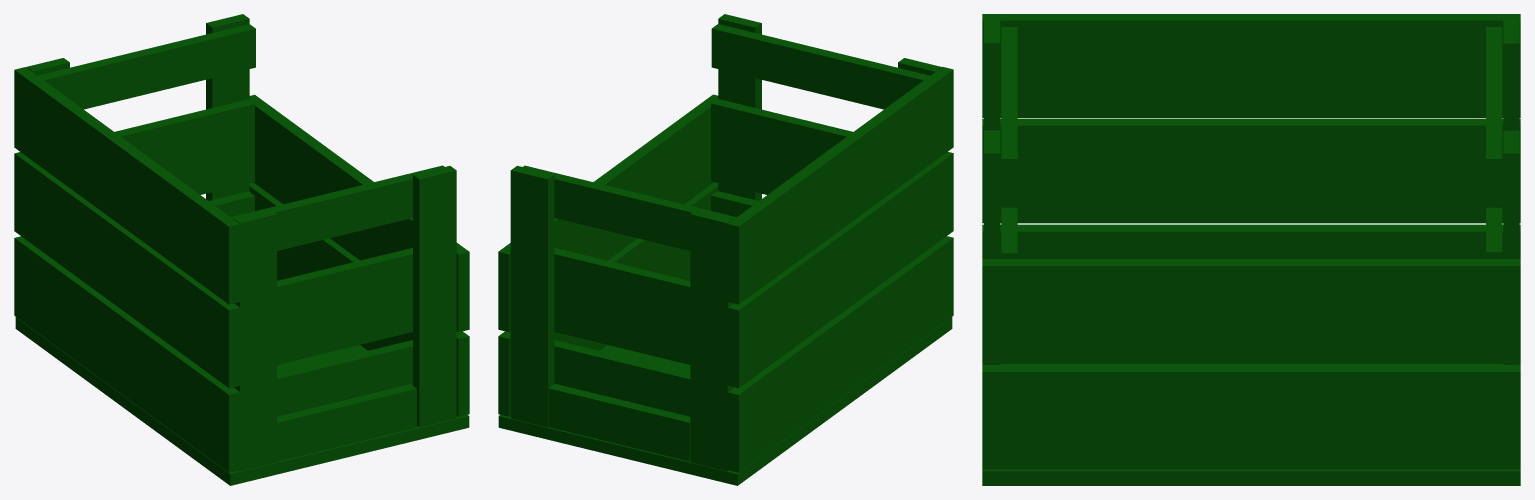
Rendered from crate05.FBX.
3 renders of one model, left to right at view 1: azimuth 30°, elevation 25°; view 2: azimuth 150°, elevation 25°; view 3: azimuth 270°, elevation 25°, orthographic. The views are drawn at different scales.
Visible parts, largest first — view 1: SM_crate05_0; view 2: SM_crate05_0; view 3: SM_crate05_0.
Part boxes in pixels (x1,y1,x2,y2): SM_crate05_0: (14, 14, 469, 485); SM_crate05_0: (498, 14, 953, 485); SM_crate05_0: (982, 14, 1520, 485).
Size of the model in its own units: 32.33 by 50 by 33.36.
